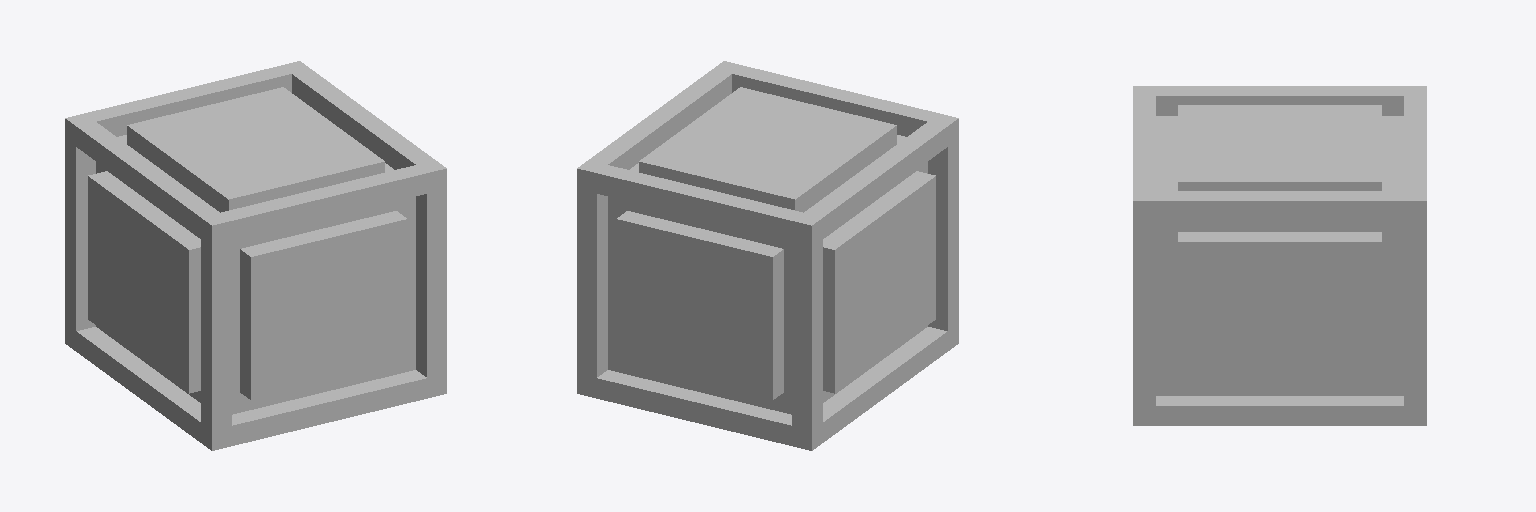
File: caixa.obj
3 renders of one model, left to right at view 1: azimuth 30°, elevation 25°; view 2: azimuth 150°, elevation 25°; view 3: azimuth 270°, elevation 25°, orthographic.
Visible parts, largest first — view 1: caixa; view 2: caixa; view 3: caixa.
Boxes of the visible parts, box(x1,y1,x2,y2) form: caixa: box(65, 61, 446, 450); caixa: box(577, 61, 958, 450); caixa: box(1133, 86, 1426, 425).
Bounding box in the file's own units: 12 × 11 × 13.